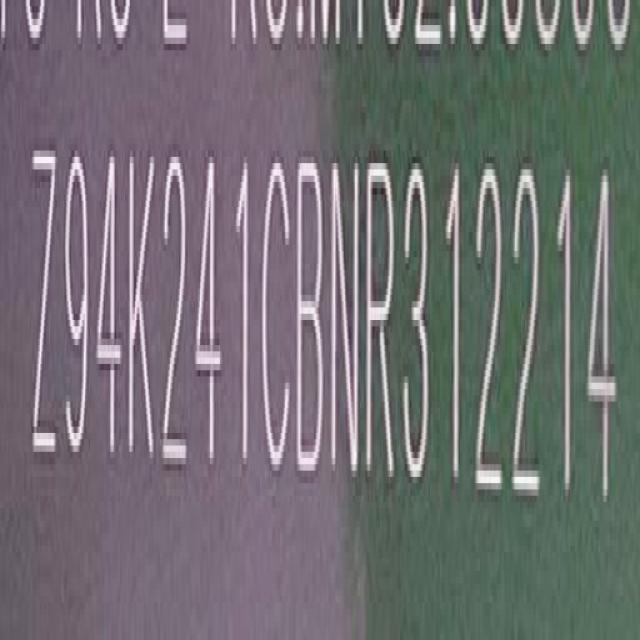1: (552, 166, 576, 517), (442, 160, 463, 493), (234, 153, 252, 481)
2: (512, 164, 545, 515), (472, 159, 502, 509), (163, 149, 193, 480)
3: (402, 165, 434, 488)
4: (588, 169, 622, 521), (97, 148, 126, 472), (197, 148, 225, 480)
9: (62, 148, 89, 472)
B: (297, 155, 327, 486)
C: (260, 154, 294, 482)
K: (130, 148, 162, 479)
N: (328, 155, 362, 485)
R: (368, 154, 400, 486)
Z: (32, 146, 62, 472)
